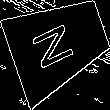N_E: (33, 17, 84, 72)
